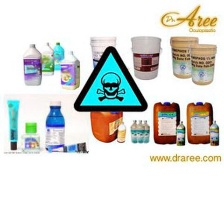insecticide: (125, 31, 162, 83), (164, 33, 199, 81), (86, 30, 119, 77), (89, 103, 125, 144), (184, 99, 215, 146), (152, 99, 180, 149), (187, 40, 217, 86), (42, 98, 65, 152), (20, 42, 43, 87), (57, 48, 81, 91), (4, 94, 20, 152), (35, 38, 55, 76), (20, 120, 41, 153), (47, 141, 88, 156), (48, 40, 66, 74), (174, 120, 186, 148), (209, 118, 219, 147), (134, 119, 145, 145), (128, 119, 139, 144), (115, 121, 126, 143), (141, 119, 150, 145)
